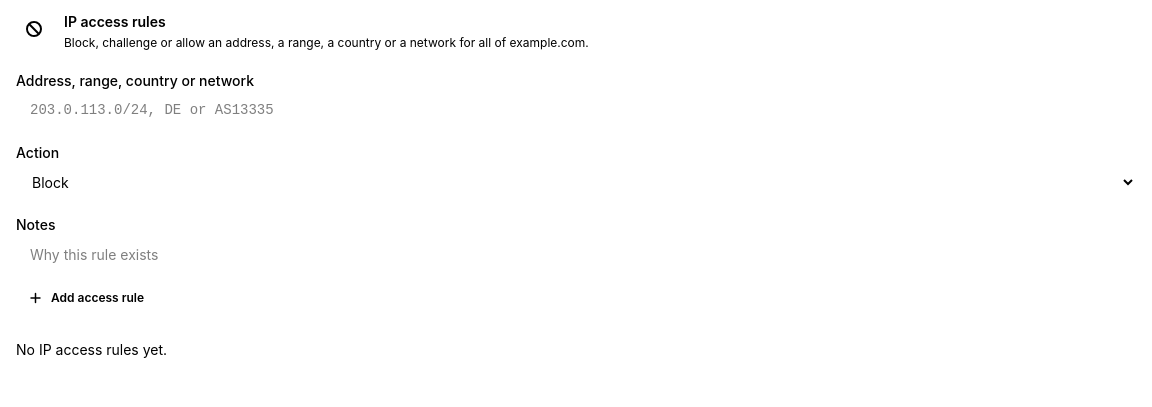
Scenario: AccessRulesCard › says what is wrong with a value before sending it
Type "203.0.0.0/8" into the field labelled "Address, range, country or network".
click(576, 110); type("203.0.0.0/8")  # box [16,92,1136,128]
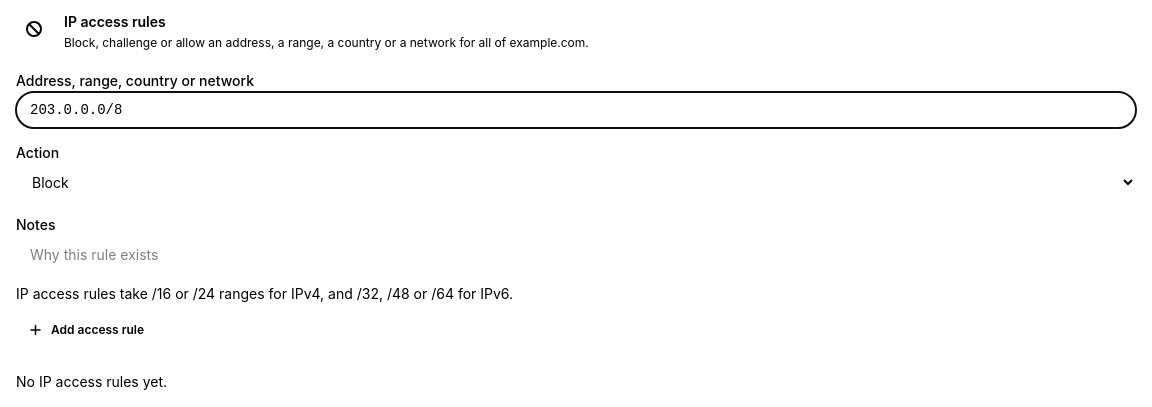
Expected: the button "Add access rule" is disabled, [16,316,156,344]
Expected: the message shows "/16 or /24", [16,285,513,302]
